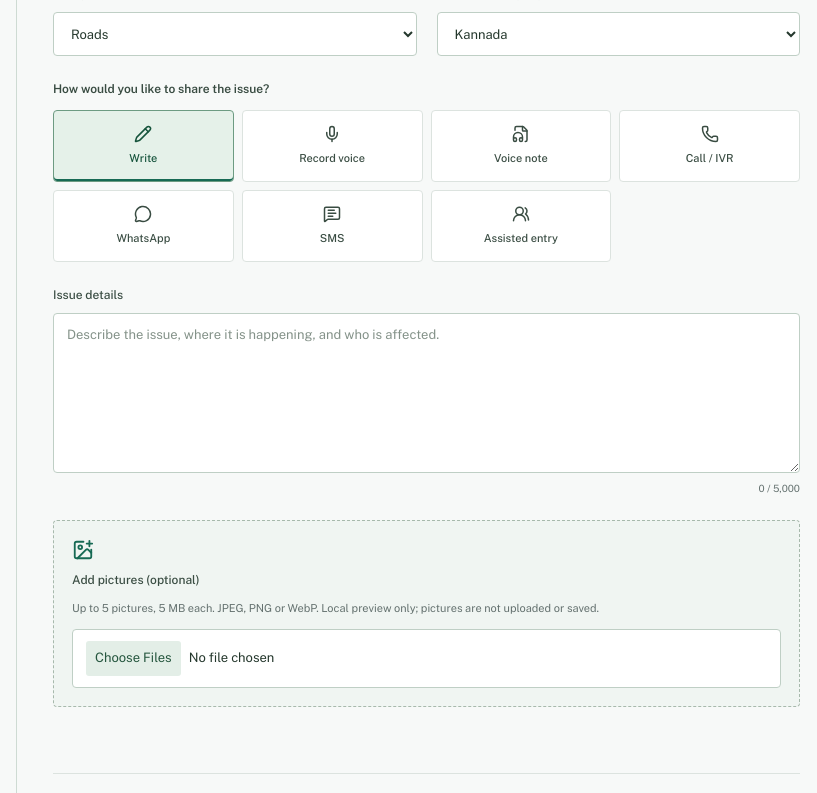
Test case: sample citizen page › previews voice transcription without microphone or network access and preserves typed text
The image size is (817, 793).
(page scrolled)
Replace the text in the text box labelled "Issue details" with "Existing details." at point(426, 393), box [53,313,800,473]
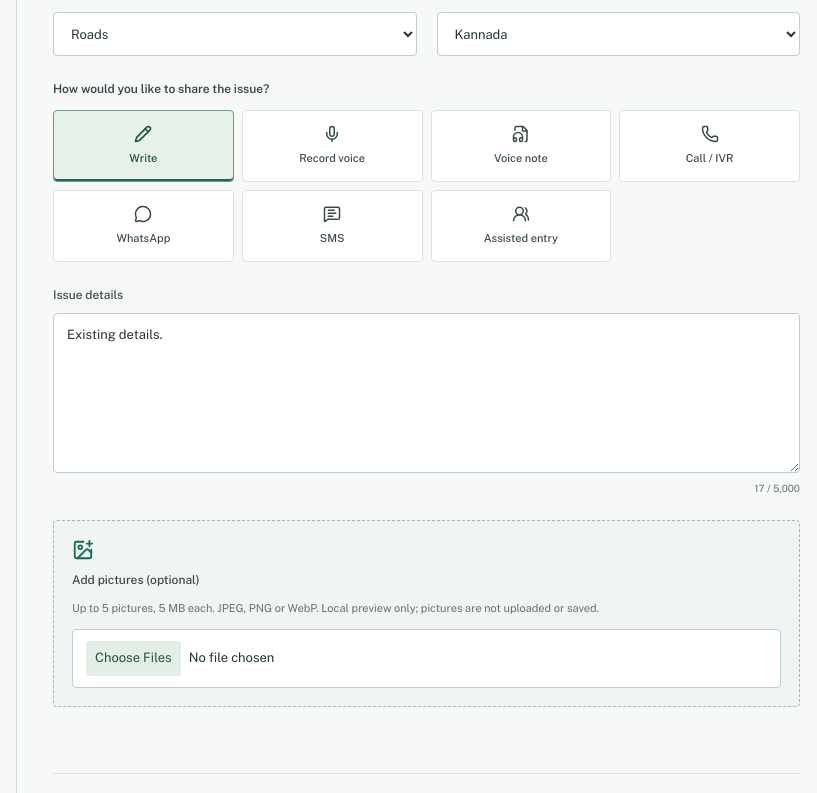
Click the radio button labelled "Record voice" at point(332, 146), box [242,110,423,182]
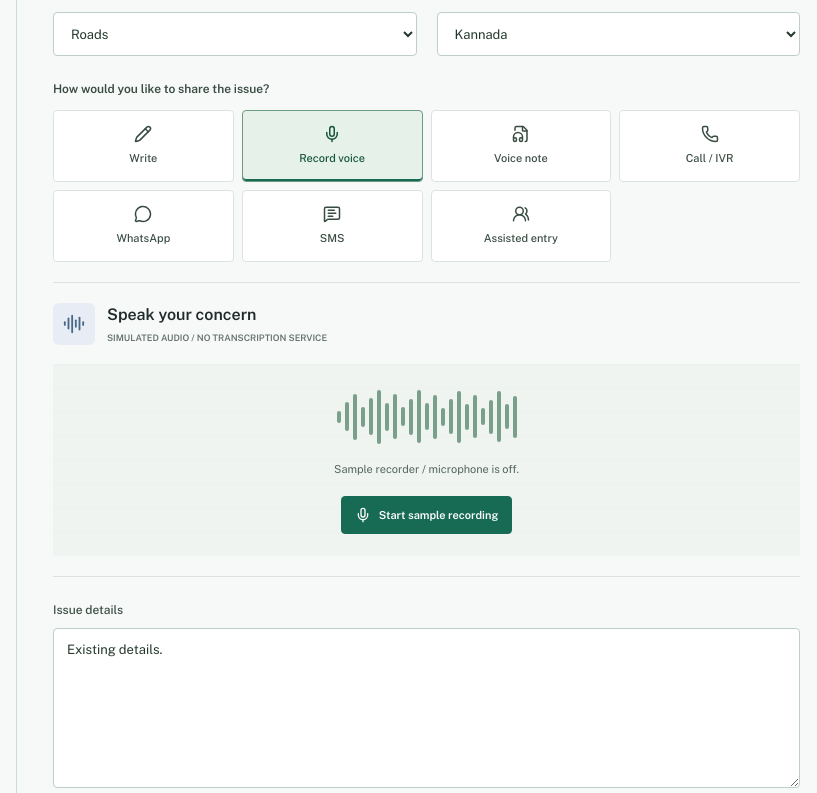
Click the button "Start sample recording" at point(426, 515), box [341,496,512,534]
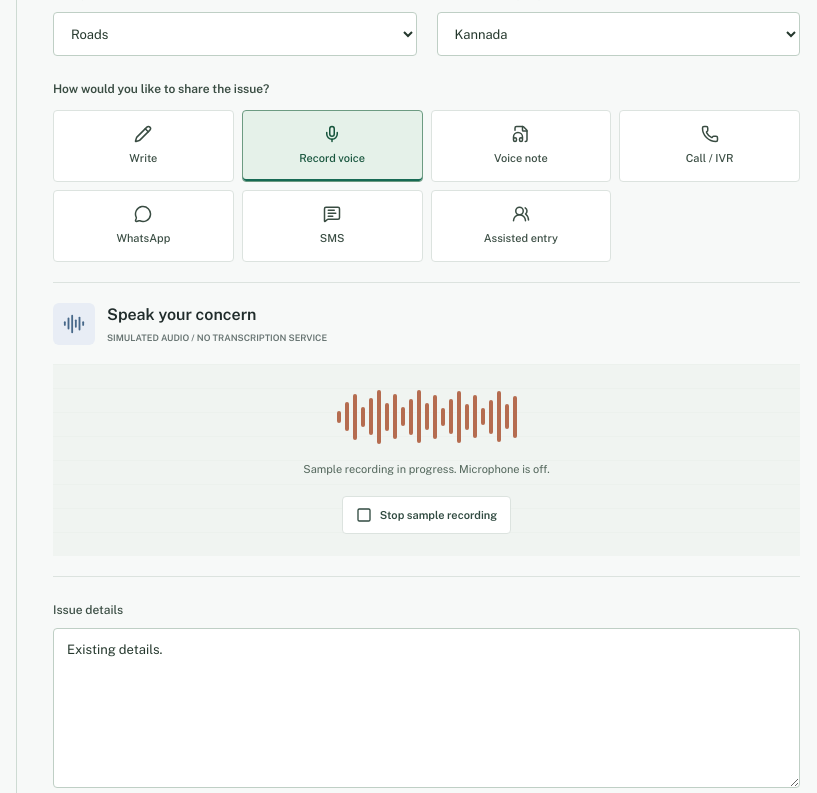
Check: the message shows "Microphone is off", box [303,463,550,475]
Click the button "Stop sample recording" at point(426, 515), box [342,496,511,534]
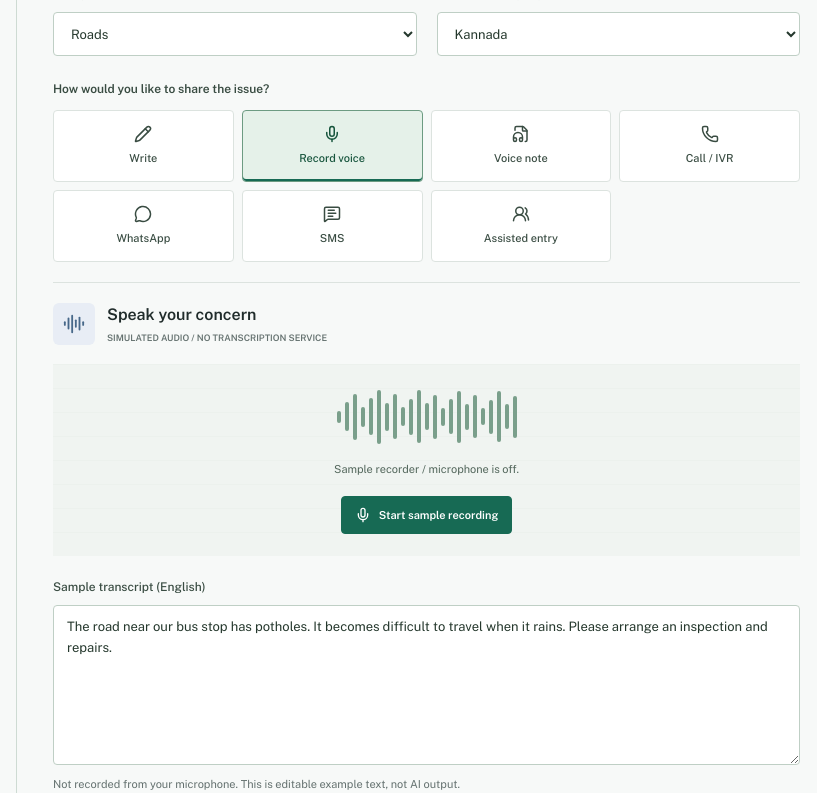
Replace the text in the text box labelled "Sample transcript (English)" with "The road near the bus stop needs repair." at point(426, 686), box [53,606,800,766]
(page scrolled)
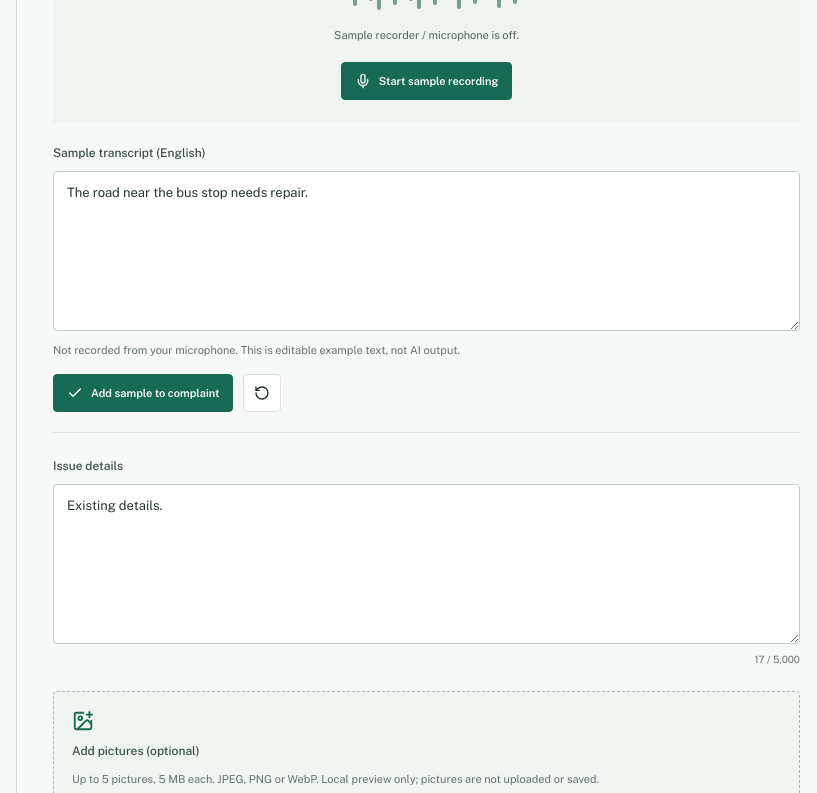
Click the button "Add sample to complaint" at point(143, 393), box [53,374,234,412]
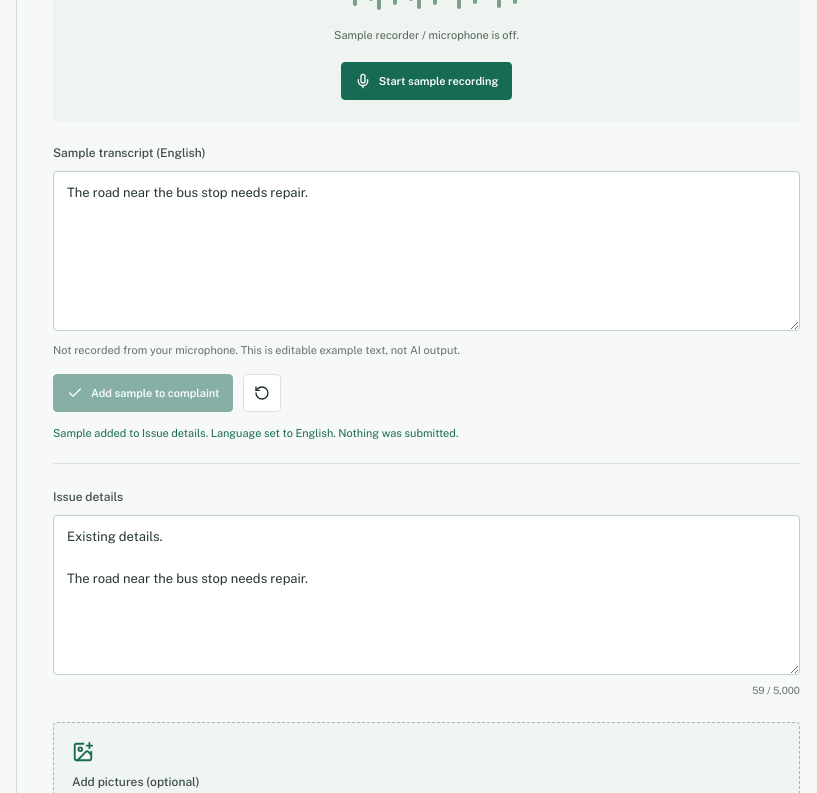
Check: the button "Add sample to complaint" is disabled, box [53,374,234,412]
